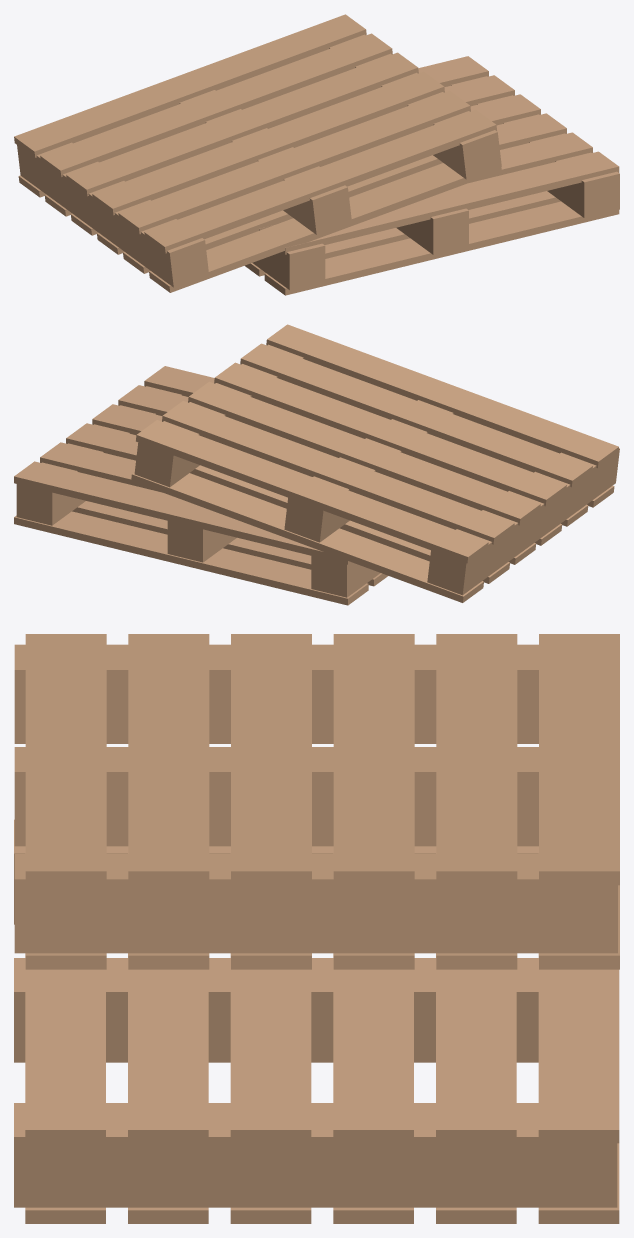
The model's file is Weedensuports.fbx.
3 views of the same model, one above another, from view 1: azimuth 30°, elevation 25°; view 2: azimuth 150°, elevation 25°; view 3: azimuth 270°, elevation 25° (orthographic). The views are drawn at different scales.
Parts seen in each view (by area): view 1: Pallet.006; view 2: Pallet.006; view 3: Pallet.006.
Boxes of the visible parts, bbox=[...] form: Pallet.006: bbox=[14, 14, 619, 295]; Pallet.006: bbox=[14, 324, 619, 605]; Pallet.006: bbox=[14, 634, 619, 1223].
Bounding box in the file's own units: 186 × 79.58 × 317.
Materials: 1 (1 with a texture image).
